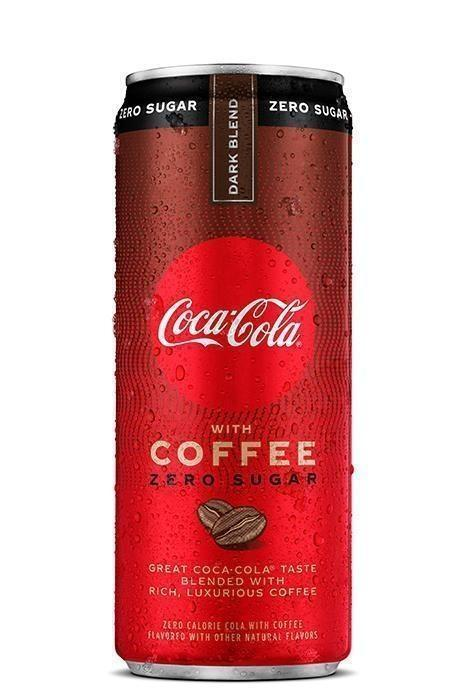tin can: (109, 60, 355, 685)
